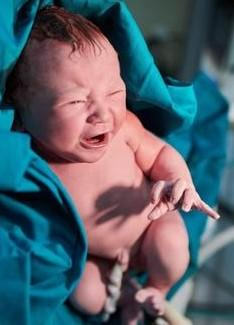Healthy: (36, 31, 130, 163)
